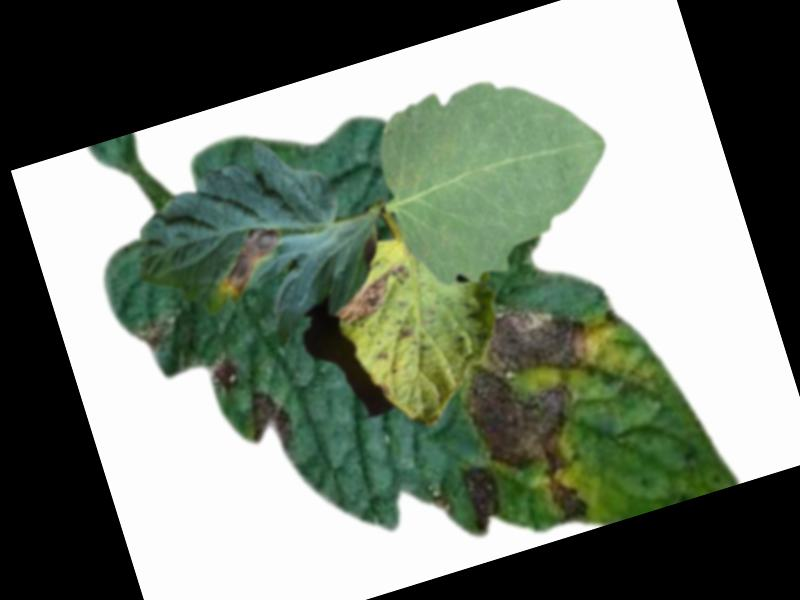Early_blight: (442, 289, 645, 547), (327, 261, 423, 331), (209, 222, 295, 300), (240, 381, 300, 459), (457, 459, 506, 525), (205, 357, 241, 391), (402, 325, 419, 344)
